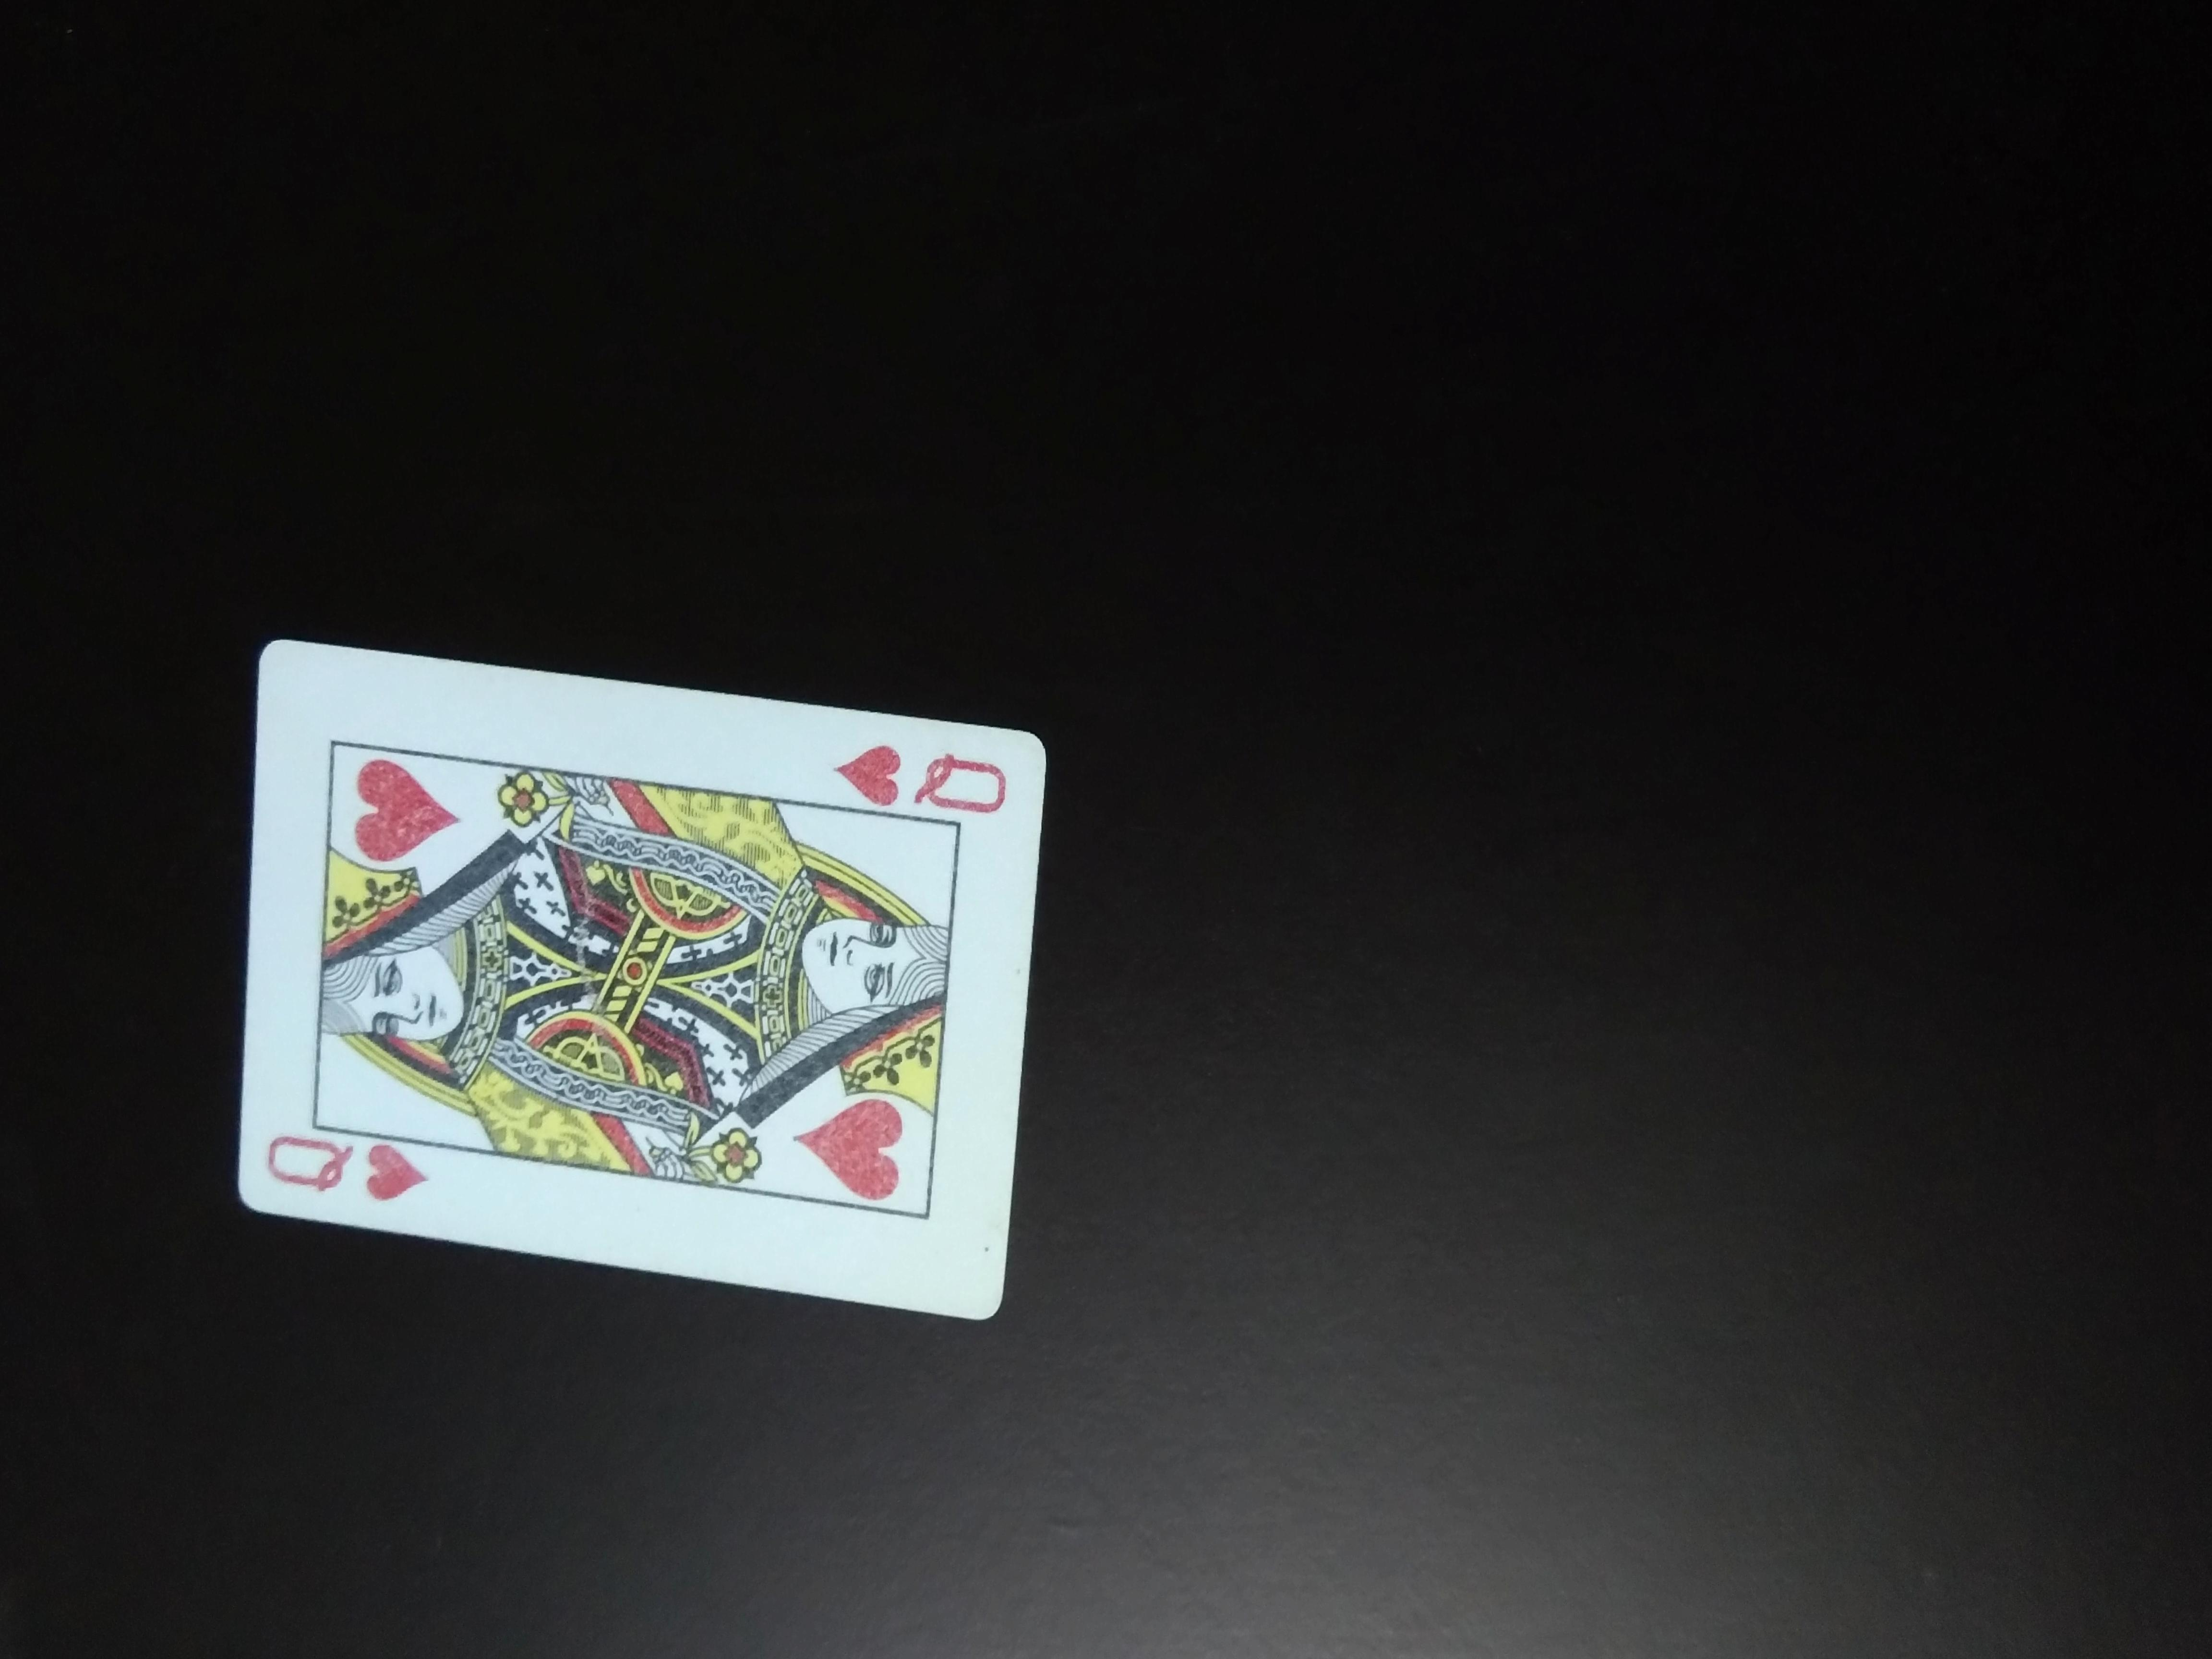QH: (822, 728, 1015, 817)
